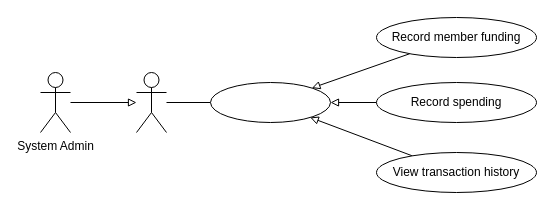
This 554x210 diagram has some shape labels left out. The shapes that lost their labels are listed below. From the top down, each one's centre as x and y in pixels, then its label:
At [151,102]: "Project Admin".
At [270,102]: "Manage funds".
